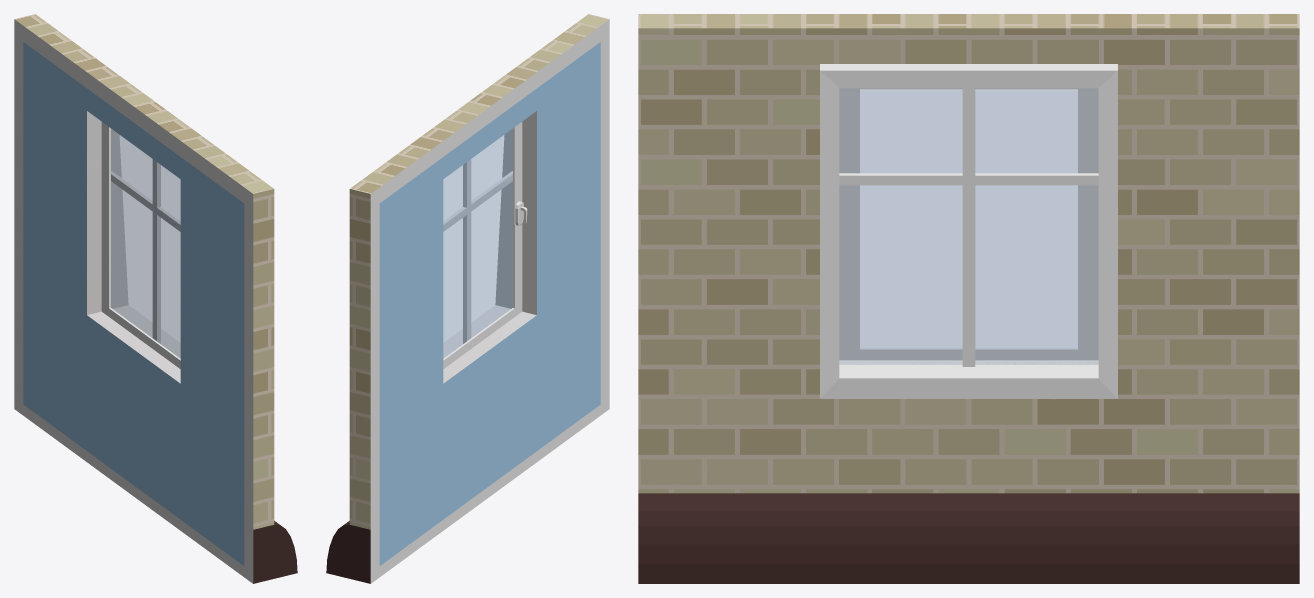
File: Window A.fbx
3 views of the same model, side by side, from view 1: azimuth 30°, elevation 25°; view 2: azimuth 150°, elevation 25°; view 3: azimuth 270°, elevation 25° (orthographic). The views are drawn at different scales.
Visible parts, largest first — view 1: Window A; view 2: Window A; view 3: Window A.
Part boxes in pixels (bbox=[...]): Window A: bbox=[14, 14, 297, 583]; Window A: bbox=[326, 14, 609, 583]; Window A: bbox=[638, 14, 1299, 583].
Bounding box in the file's own units: 85.83 × 721 × 800.
